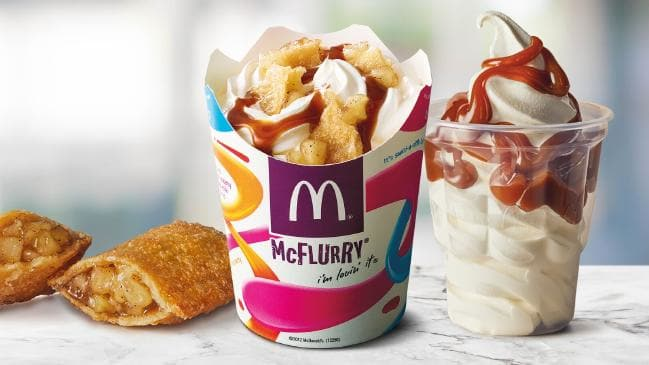mcdonalds: (282, 177, 348, 226)
